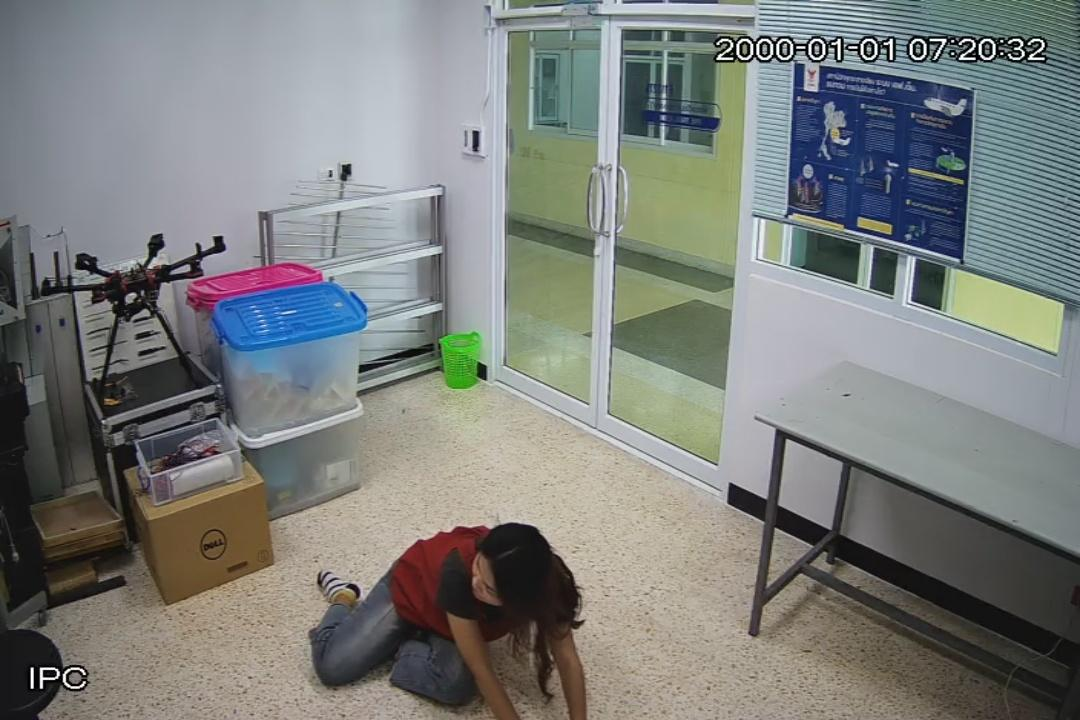fall: (307, 518, 589, 720)
